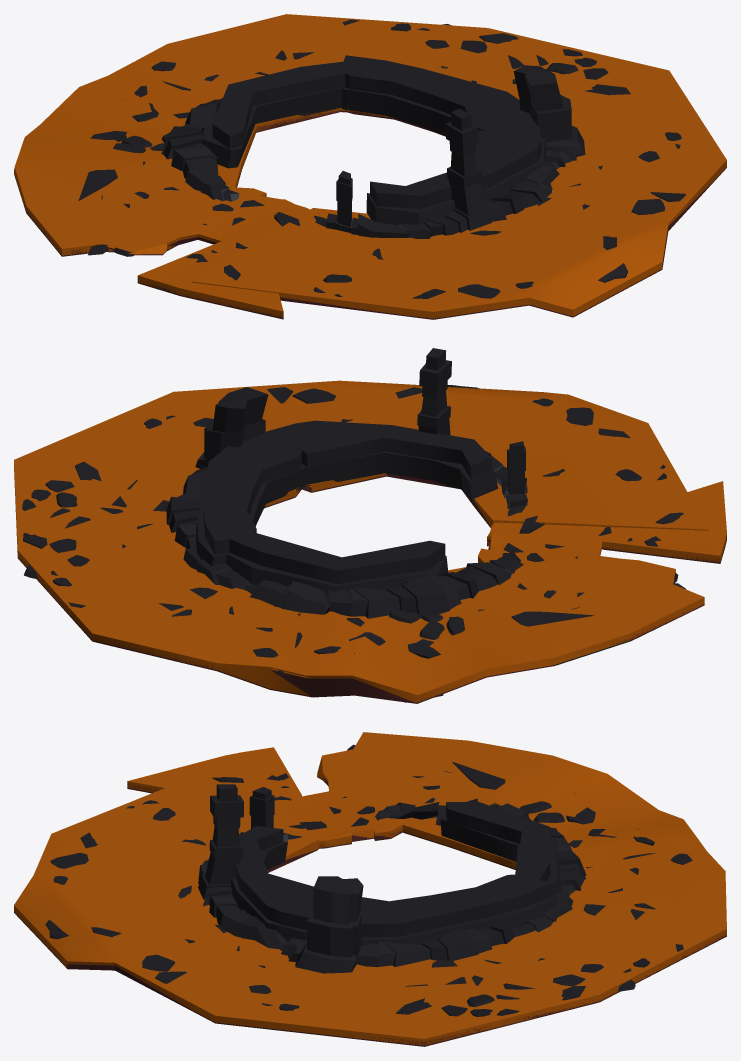
The picture shows the model from 3 angles, top to bottom: view 1: azimuth 30°, elevation 25°; view 2: azimuth 150°, elevation 25°; view 3: azimuth 270°, elevation 25°; orthographic projection. The views are drawn at different scales.
Parts seen in each view (by area): view 1: polySurface3016, segment_1_4, polySurface3017; view 2: polySurface3016, segment_1_4, polySurface3017; view 3: polySurface3016, segment_1_4, polySurface3017.
Boxes of the visible parts, bbox=[...] form: polySurface3016: bbox=[14, 14, 726, 316]; segment_1_4: bbox=[14, 19, 726, 319]; polySurface3017: bbox=[14, 108, 726, 318]; polySurface3016: bbox=[14, 380, 726, 700]; segment_1_4: bbox=[14, 348, 726, 703]; polySurface3017: bbox=[14, 466, 726, 702]; polySurface3016: bbox=[14, 732, 726, 1043]; segment_1_4: bbox=[14, 744, 726, 1046]; polySurface3017: bbox=[14, 774, 726, 1045].
Size of the model in its own units: 71.33 by 14.71 by 70.
